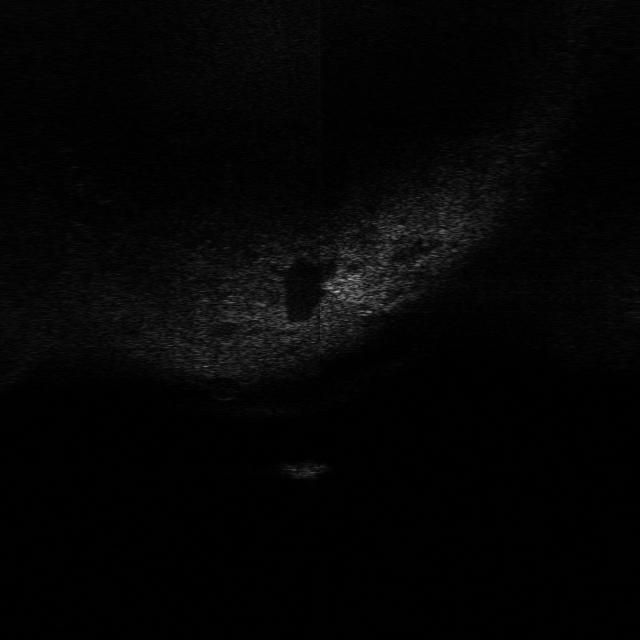cube: (274, 458, 330, 481)
